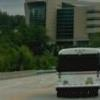Bus: (54, 43, 100, 96)
